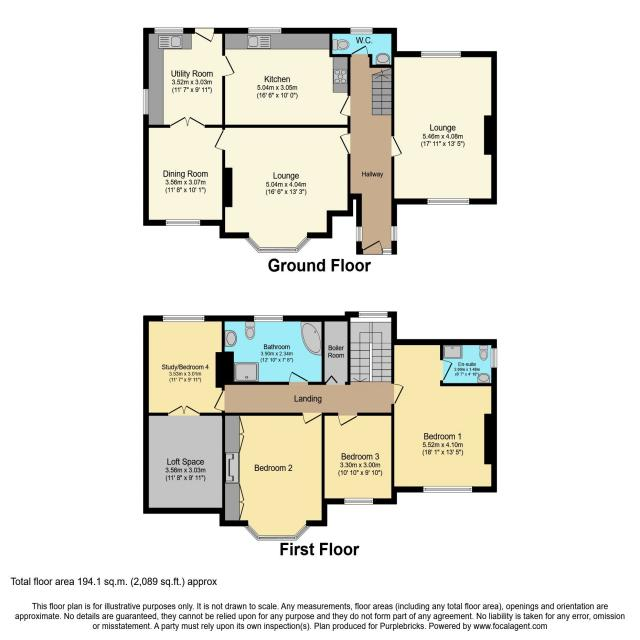DOOR: (194, 27, 215, 43), (222, 54, 236, 77), (288, 370, 309, 385), (337, 412, 358, 427), (391, 383, 405, 405), (440, 359, 453, 381), (363, 240, 382, 255), (339, 132, 351, 155), (213, 390, 225, 412), (391, 135, 403, 157), (339, 95, 351, 117), (302, 412, 322, 425), (214, 129, 225, 151), (351, 44, 369, 57)
DOUBLE DOOR: (170, 116, 205, 128), (167, 404, 200, 416)
ROOM: (213, 124, 353, 253), (391, 50, 497, 205), (391, 339, 497, 493), (219, 412, 328, 541), (222, 27, 351, 128), (143, 116, 233, 226), (143, 27, 236, 128), (143, 315, 226, 416), (321, 412, 397, 505)
WINDOW: (243, 523, 311, 541), (244, 235, 312, 253), (423, 485, 473, 493), (162, 314, 205, 323), (427, 197, 470, 205), (420, 50, 461, 58), (165, 219, 201, 226), (253, 315, 284, 323), (344, 497, 374, 505), (248, 27, 282, 34), (358, 311, 388, 318), (154, 27, 184, 34), (350, 27, 373, 35), (143, 88, 149, 115), (490, 348, 497, 368), (356, 226, 363, 242), (391, 226, 397, 241), (382, 248, 392, 255)
